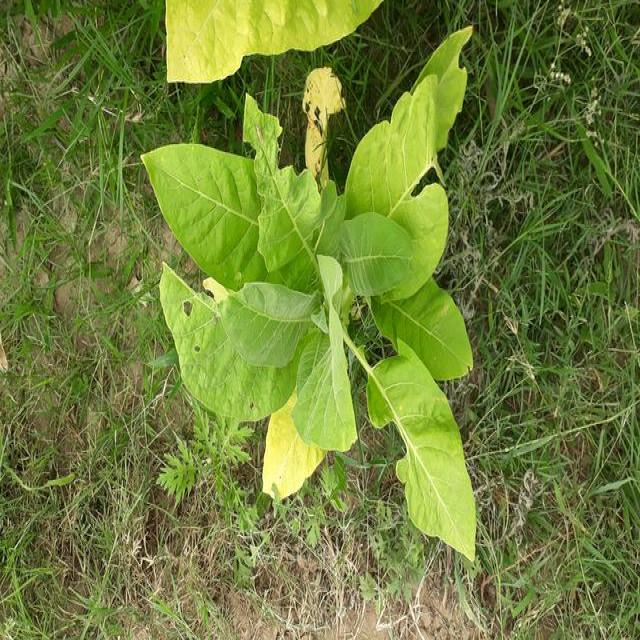crop: (138, 66, 500, 571)
